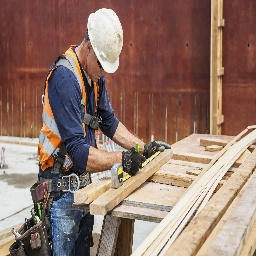helmet: (85, 12, 126, 77)
person: (32, 0, 125, 256)
vest: (38, 50, 97, 189)
